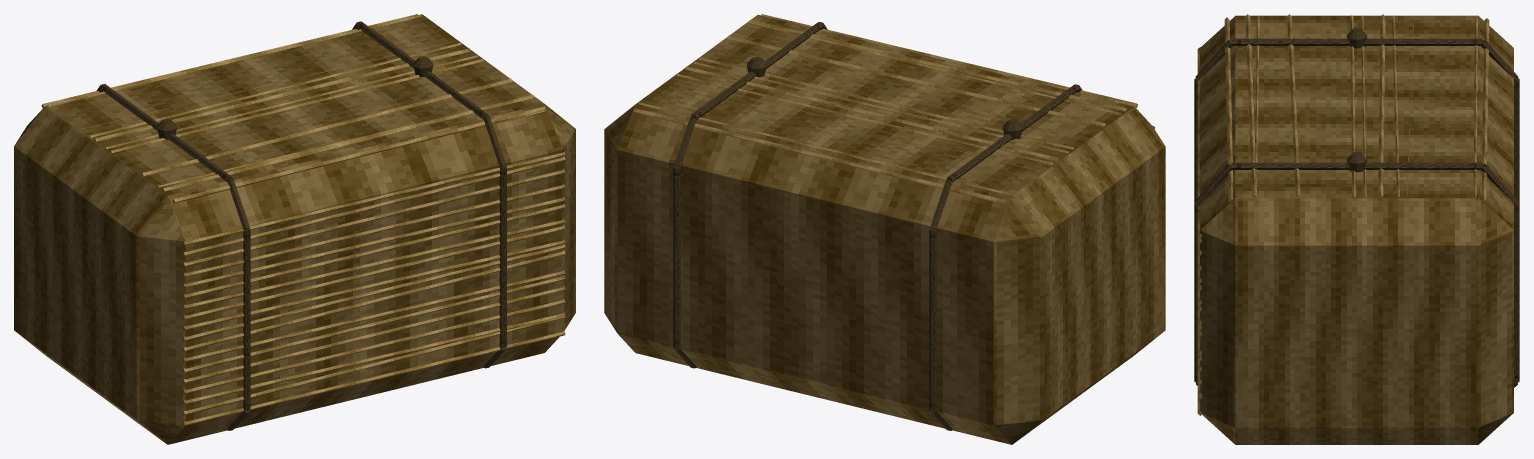
Rendered from level_hay_bale.glb.
The picture shows the model from 3 angles, left to right: view 1: azimuth 30°, elevation 25°; view 2: azimuth 150°, elevation 25°; view 3: azimuth 270°, elevation 25°; orthographic projection.
Parts seen in each view (by area): view 1: level_hay_bale; view 2: level_hay_bale; view 3: level_hay_bale.
Part boxes in pixels (x1=…): level_hay_bale: x1=14, y1=14, x2=575, y2=444; level_hay_bale: x1=604, y1=14, x2=1165, y2=444; level_hay_bale: x1=1194, y1=14, x2=1519, y2=444.
Size of the model in its own units: 1.2 by 0.69 by 0.776.
3 materials, 3 textured.
